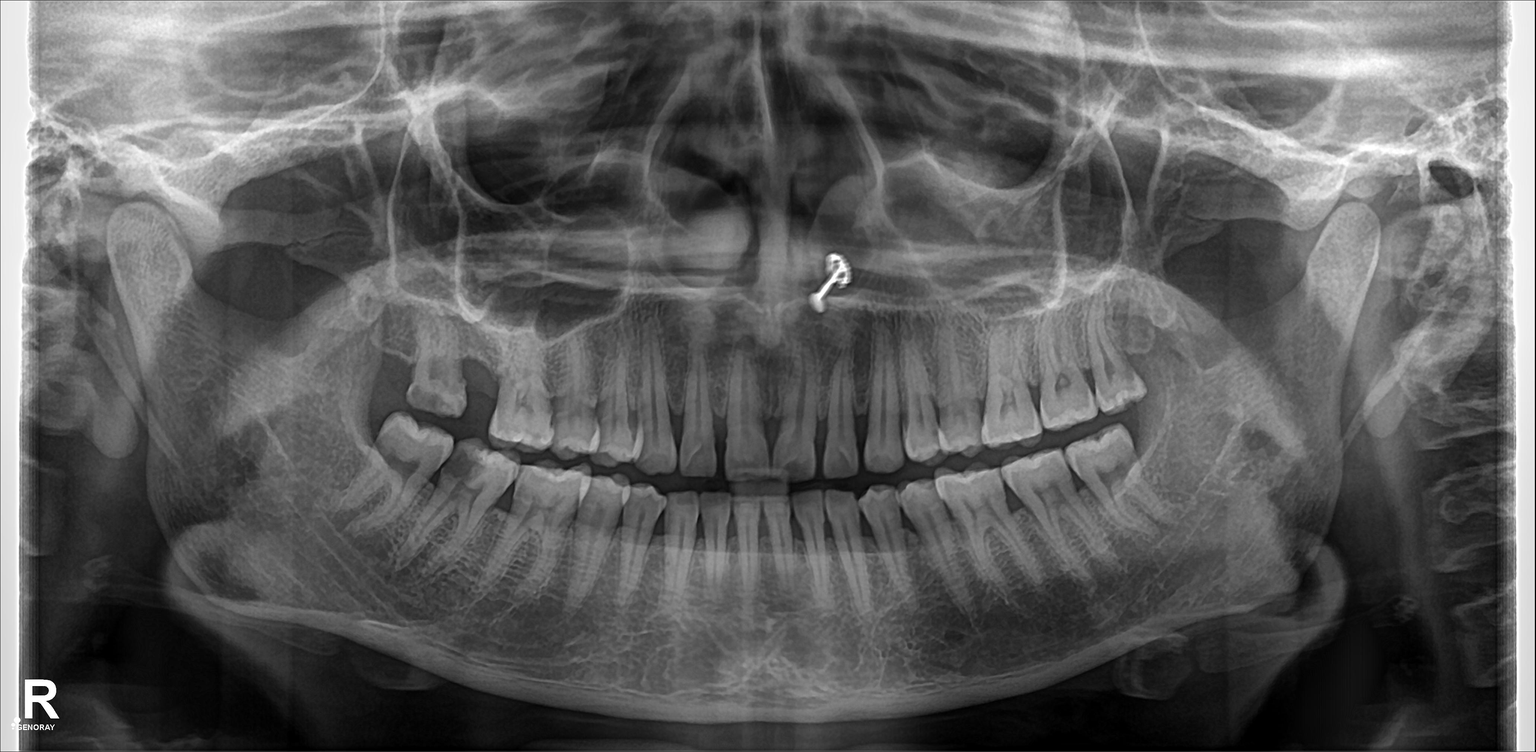Dental Caries: (402, 389, 459, 416), (445, 441, 486, 478)
Missing Tooth: (371, 318, 411, 392), (456, 346, 496, 419)
